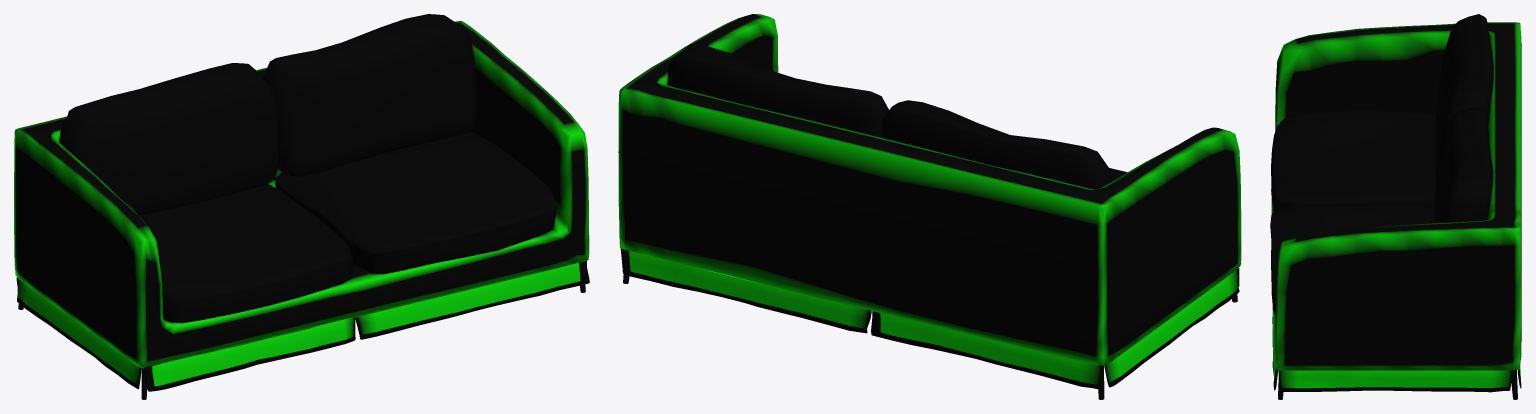
File: Couch.fbx
The picture shows the model from 3 angles, left to right: view 1: azimuth 30°, elevation 25°; view 2: azimuth 150°, elevation 25°; view 3: azimuth 270°, elevation 25°; orthographic projection. The views are drawn at different scales.
Visible parts, largest first — view 1: Couch; view 2: Couch; view 3: Couch.
Boxes of the visible parts, x1,y1,x2,y2 form: Couch: (14,14,589,399); Couch: (618,14,1241,399); Couch: (1270,14,1521,399).
Bounding box in the file's own units: 202 × 90.07 × 102.
